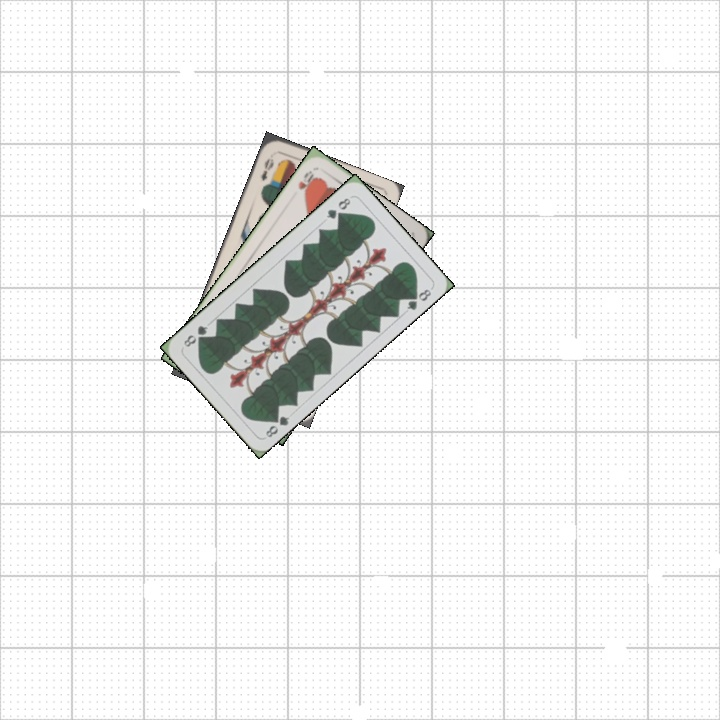EO: (257, 154, 276, 184)
G8: (261, 409, 292, 440), (322, 194, 353, 222)
HO: (294, 166, 319, 198)
